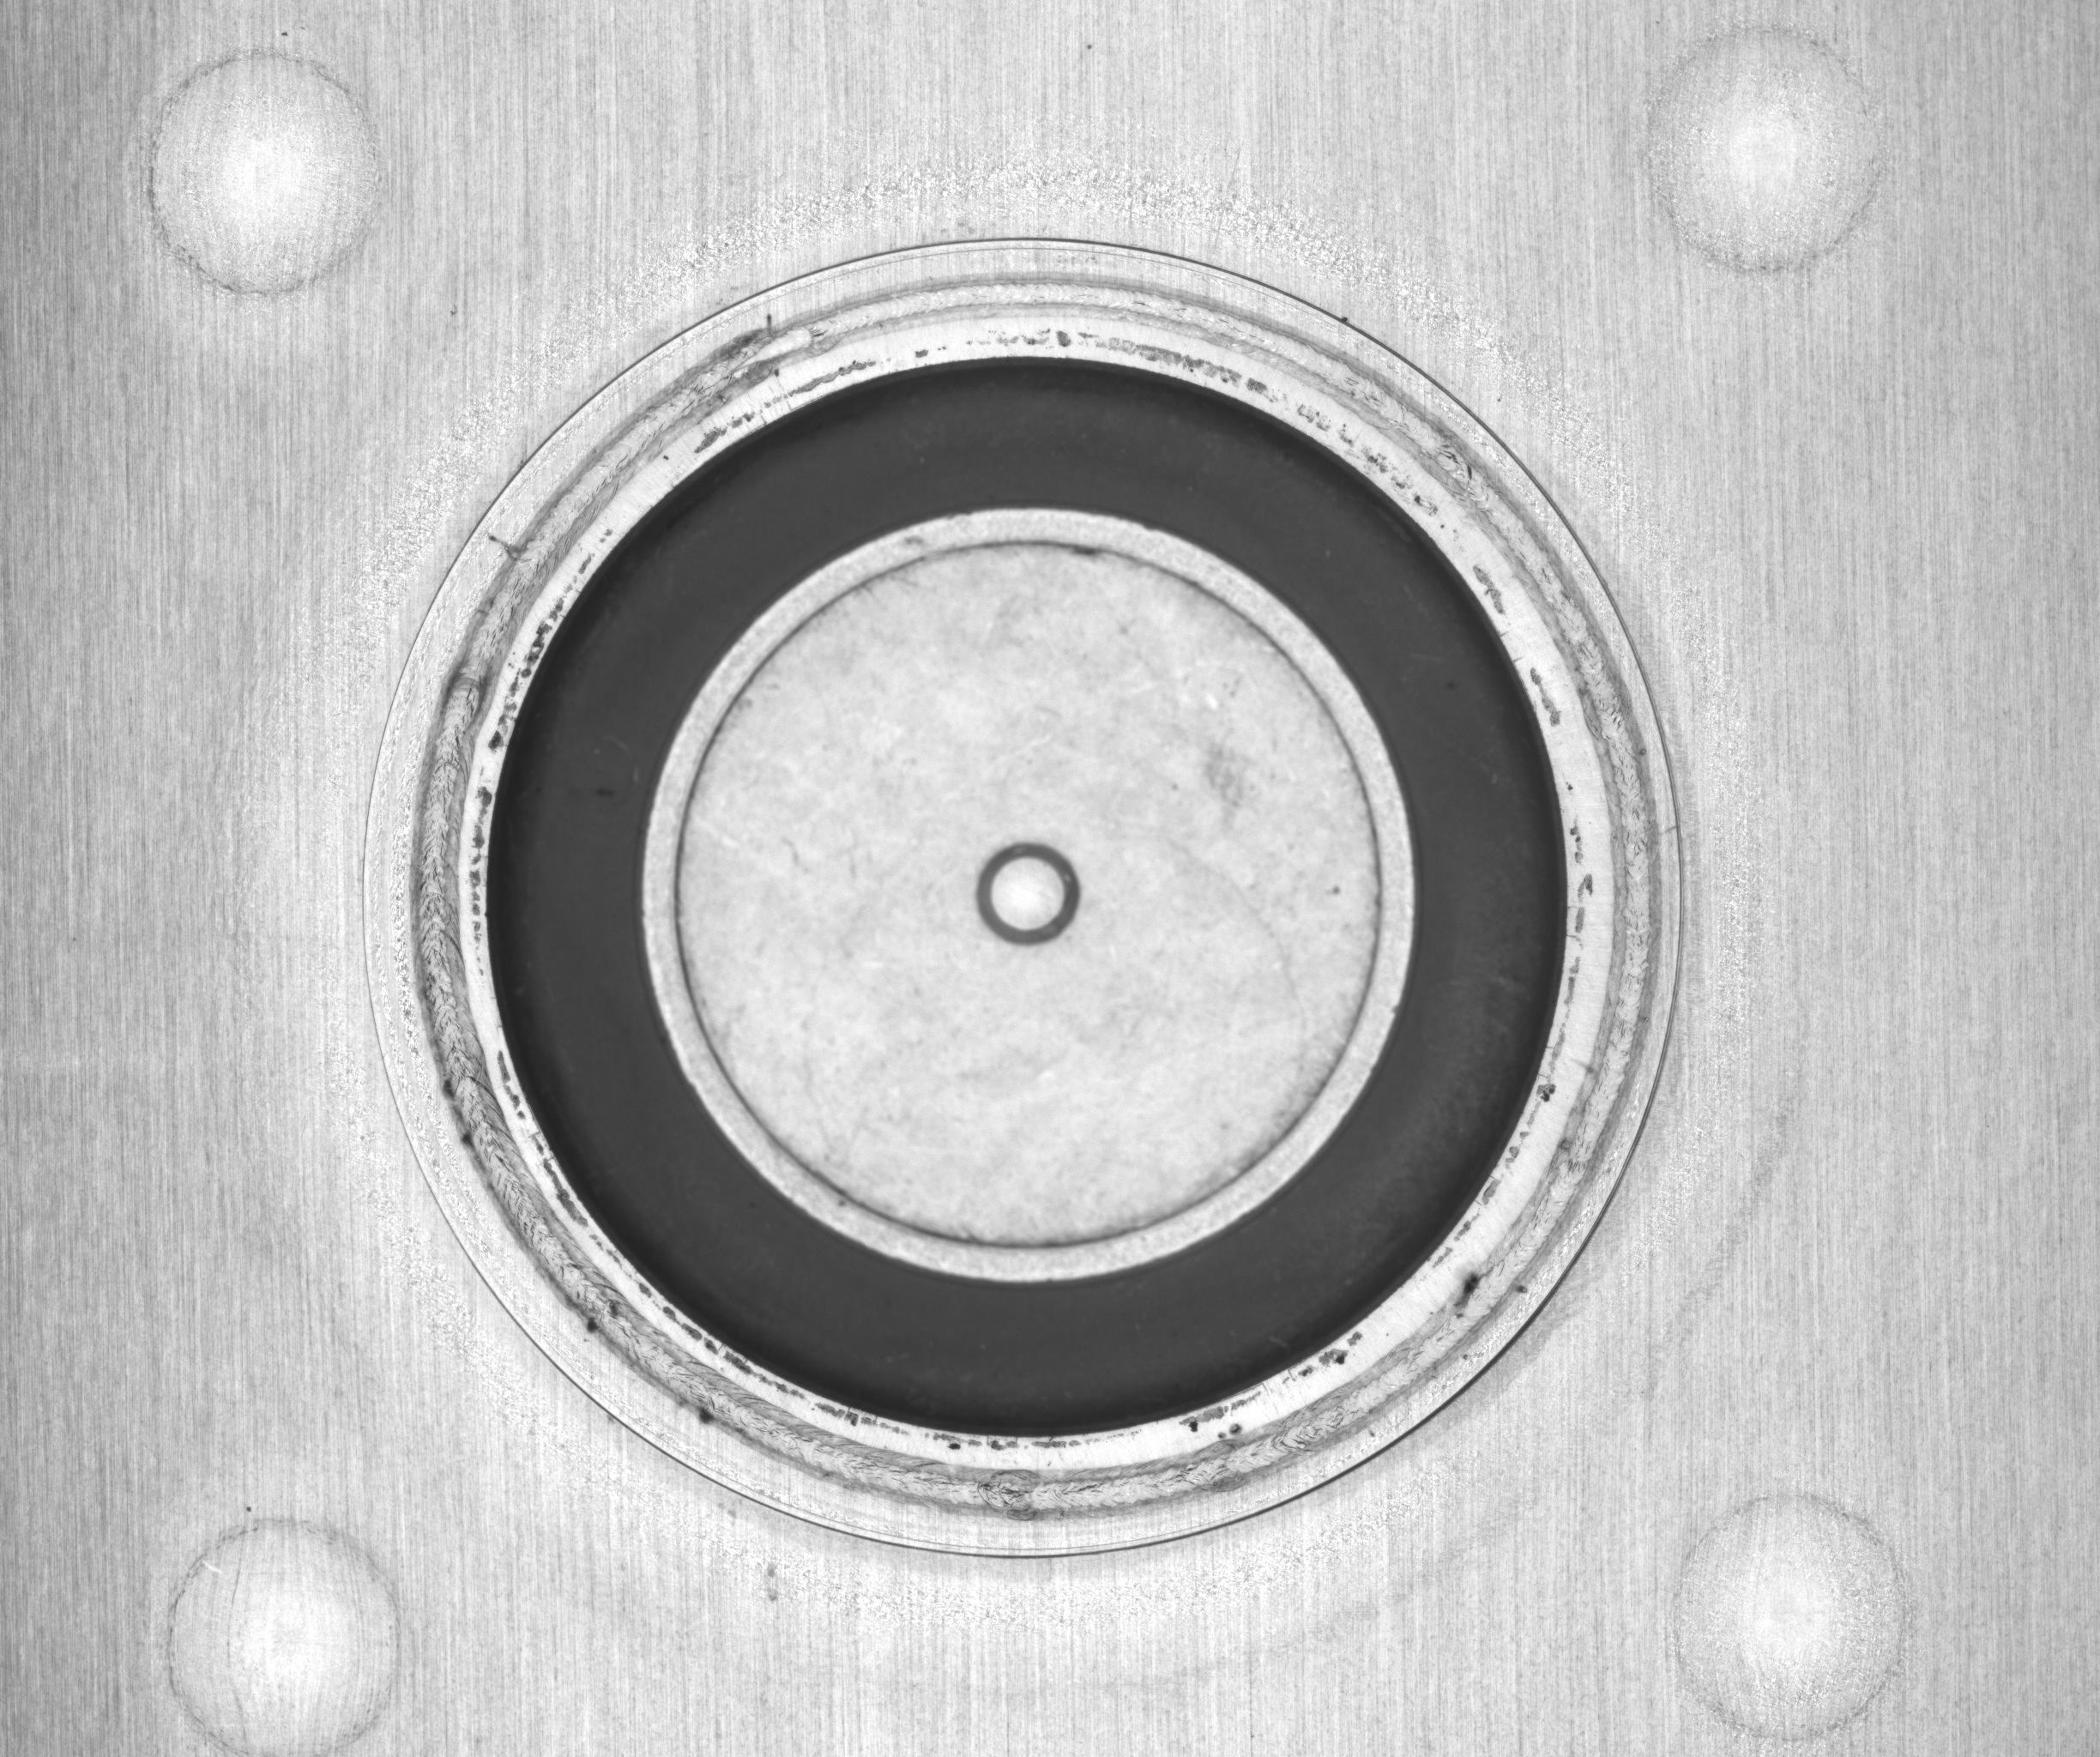normal: (326, 211, 1718, 1577)
